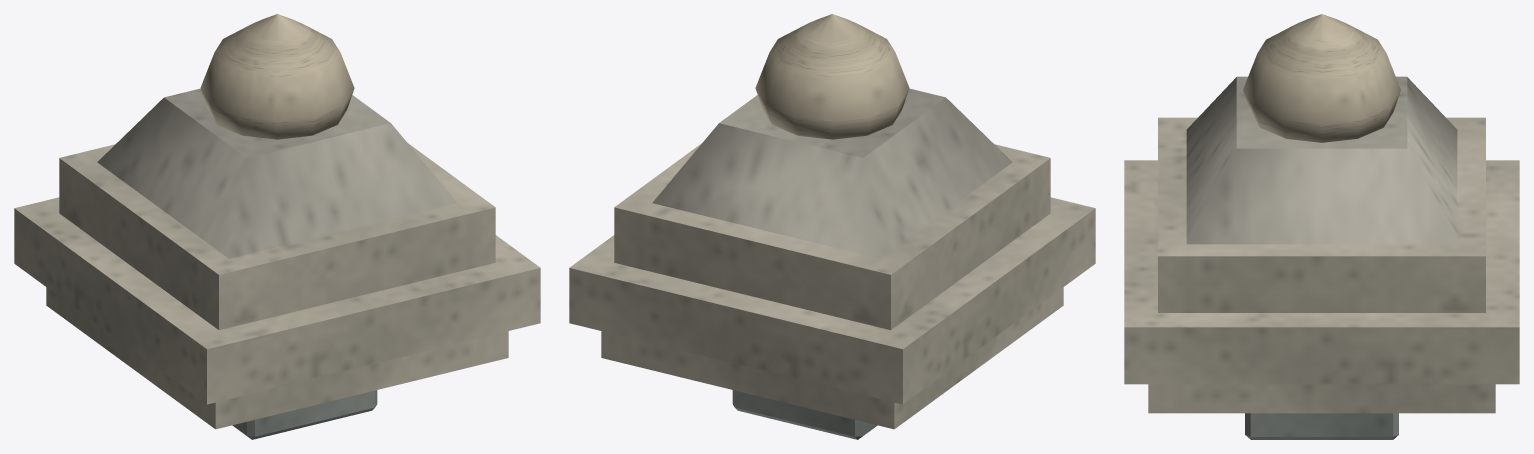
3 renders of one model, left to right at view 1: azimuth 30°, elevation 25°; view 2: azimuth 150°, elevation 25°; view 3: azimuth 270°, elevation 25°, orthographic. The views are drawn at different scales.
Visible parts, largest first — view 1: D06_light, D06_stone, D06_relief, D06_cool; view 2: D06_light, D06_stone, D06_relief, D06_cool; view 3: D06_light, D06_stone, D06_relief, D06_cool.
Part boxes in pixels (x1,y1,x2,y2): D06_light: [14, 143, 540, 429]; D06_stone: [97, 88, 457, 258]; D06_relief: [200, 14, 354, 139]; D06_cool: [232, 390, 377, 439]; D06_light: [569, 143, 1095, 429]; D06_stone: [652, 88, 1012, 258]; D06_relief: [755, 14, 909, 139]; D06_cool: [732, 390, 877, 439]; D06_light: [1124, 117, 1519, 413]; D06_stone: [1186, 76, 1457, 244]; D06_relief: [1243, 14, 1400, 142]; D06_cool: [1245, 413, 1398, 439].
Bounding box in the file's own units: 0.41 × 0.453 × 0.41.
Materials: 4 (4 with a texture image).
